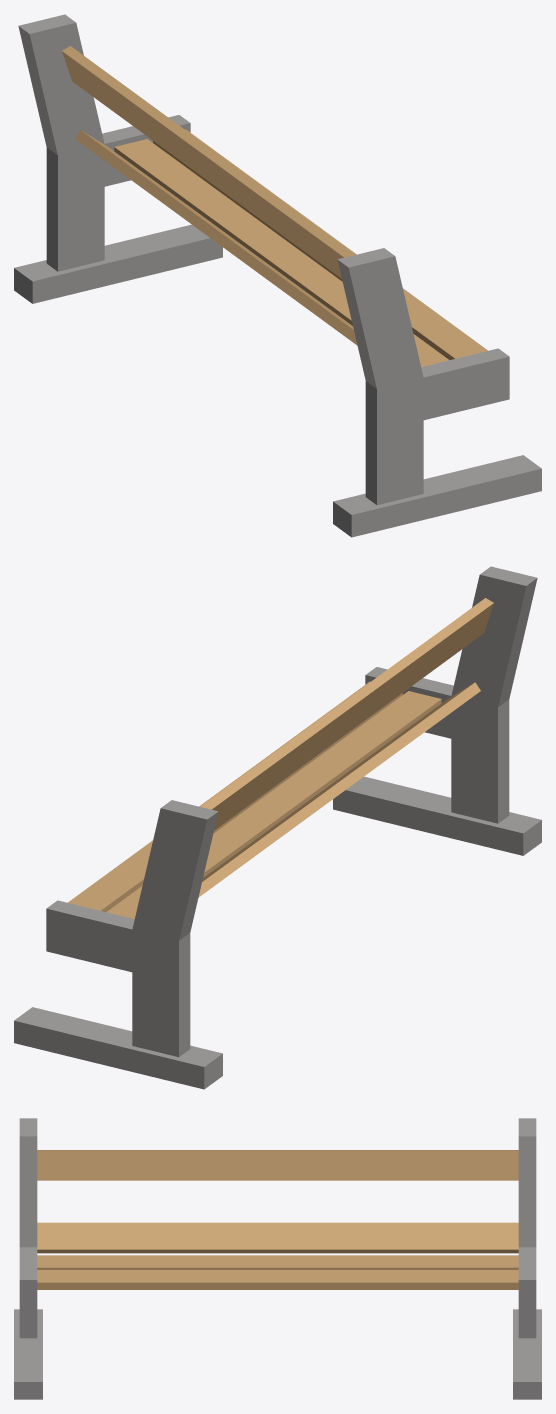
File: Bank.fbx
3 renders of one model, top to bottom at view 1: azimuth 30°, elevation 25°; view 2: azimuth 150°, elevation 25°; view 3: azimuth 270°, elevation 25°, orthographic. The views are drawn at different scales.
Parts seen in each view (by area): view 1: Cube, Cube.005, Cube.004, Cube.002, Cube.003, Cube.001; view 2: Cube.005, Cube, Cube.004, Cube.002, Cube.003, Cube.001; view 3: Cube.003, Cube.004, Cube.001, Cube.002, Cube.005, Cube.
Part boxes in pixels (<box>): Cube: <box>333,248,541,537</box>; Cube.005: <box>14,14,222,303</box>; Cube.004: <box>62,46,355,278</box>; Cube.002: <box>114,139,449,366</box>; Cube.003: <box>75,130,357,345</box>; Cube.001: <box>153,129,487,359</box>; Cube.005: <box>14,800,222,1089</box>; Cube: <box>333,566,541,855</box>; Cube.004: <box>200,598,493,830</box>; Cube.002: <box>106,691,441,918</box>; Cube.003: <box>198,682,480,897</box>; Cube.001: <box>68,681,402,911</box>; Cube.003: <box>37,1222,518,1253</box>; Cube.004: <box>37,1150,518,1180</box>; Cube.001: <box>37,1270,518,1289</box>; Cube.002: <box>37,1255,518,1269</box>; Cube.005: <box>513,1118,541,1399</box>; Cube: <box>14,1118,42,1399</box>.
Size of the model in its own units: 287 by 385 by 881.
